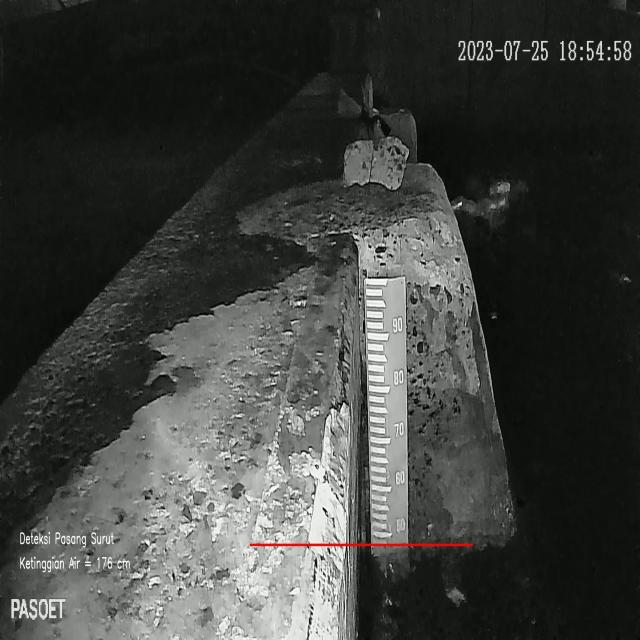60: (395, 470, 405, 486)
70: (394, 422, 405, 438)
80: (393, 368, 404, 388)
90: (391, 315, 403, 335)
staff: (364, 277, 408, 543)
